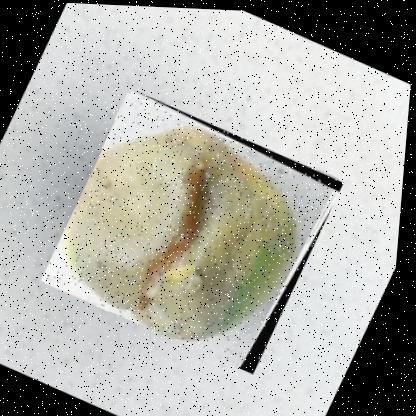orange_rotten: (38, 83, 352, 374)
